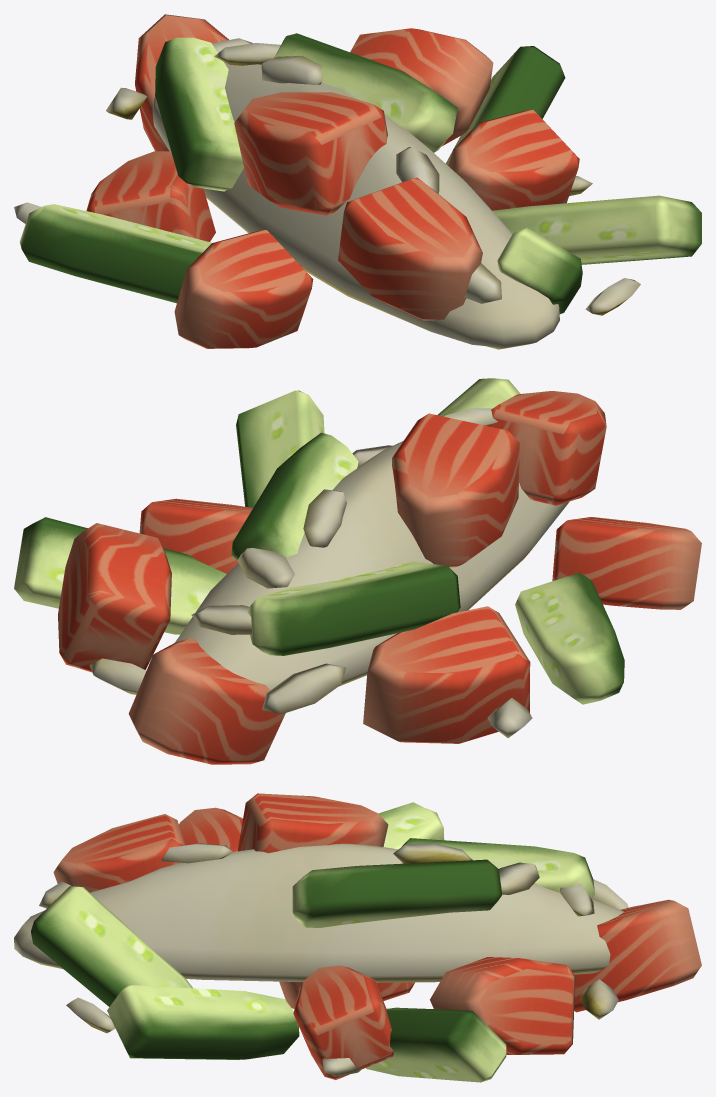
Rendered from m_plated_rice_fish_cucumber_01.fbx.
3 views of the same model, one above another, from view 1: azimuth 30°, elevation 25°; view 2: azimuth 150°, elevation 25°; view 3: azimuth 270°, elevation 25° (orthographic). The views are drawn at different scales.
Visible parts, largest first — view 1: m_plated_rice_fish_cucumber_01_1, m_plated_rice_fish_cucumber_01_0, m_plated_rice_fish_cucumber_01_2; view 2: m_plated_rice_fish_cucumber_01_1, m_plated_rice_fish_cucumber_01_0, m_plated_rice_fish_cucumber_01_2; view 3: m_plated_rice_fish_cucumber_01_2, m_plated_rice_fish_cucumber_01_0, m_plated_rice_fish_cucumber_01_1.
Part boxes in pixels (x1,y1,x2,y2): m_plated_rice_fish_cucumber_01_1: (86,14,579,348); m_plated_rice_fish_cucumber_01_0: (19,33,701,313); m_plated_rice_fish_cucumber_01_2: (14,38,640,349); m_plated_rice_fish_cucumber_01_1: (58,391,701,764); m_plated_rice_fish_cucumber_01_0: (14,378,624,704); m_plated_rice_fish_cucumber_01_2: (89,408,569,737); m_plated_rice_fish_cucumber_01_2: (14,843,628,1076); m_plated_rice_fish_cucumber_01_0: (31,802,594,1082); m_plated_rice_fish_cucumber_01_1: (53,793,701,1079).
Bounding box in the file's own units: 0.9138 × 0.3258 × 1.09.
